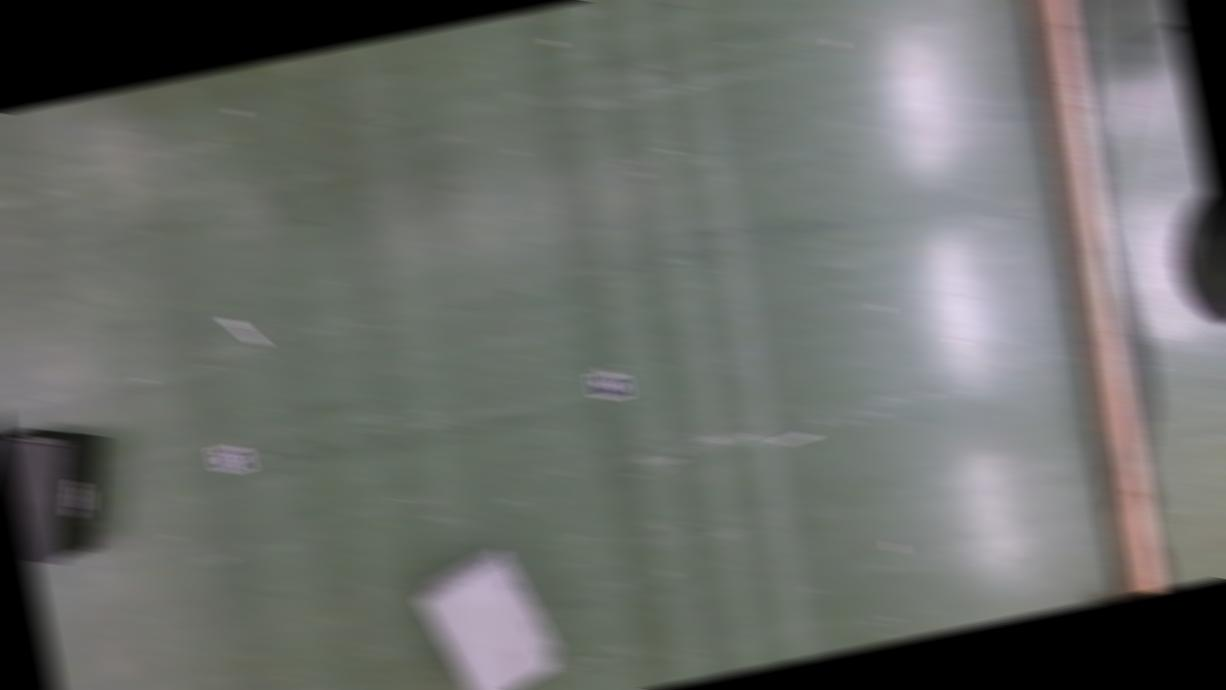probes: (224, 310, 265, 350)
rako: (410, 536, 566, 690), (0, 412, 128, 566)
